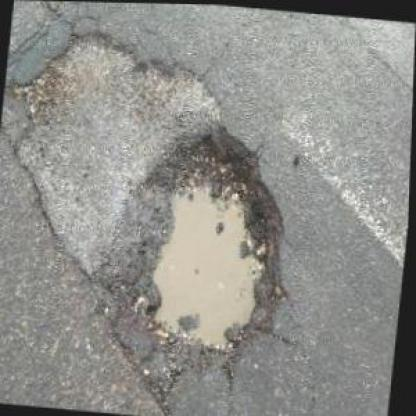pothole: (126, 112, 304, 377)
